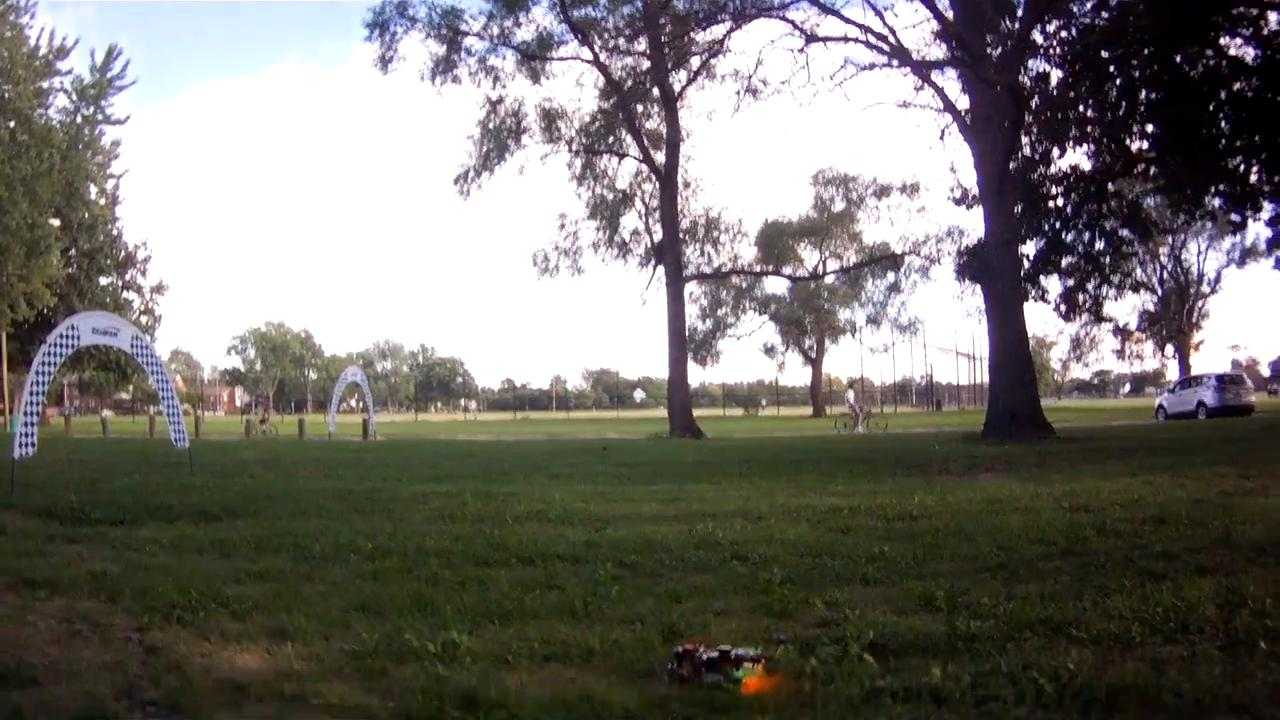gate: (16, 309, 193, 460)
